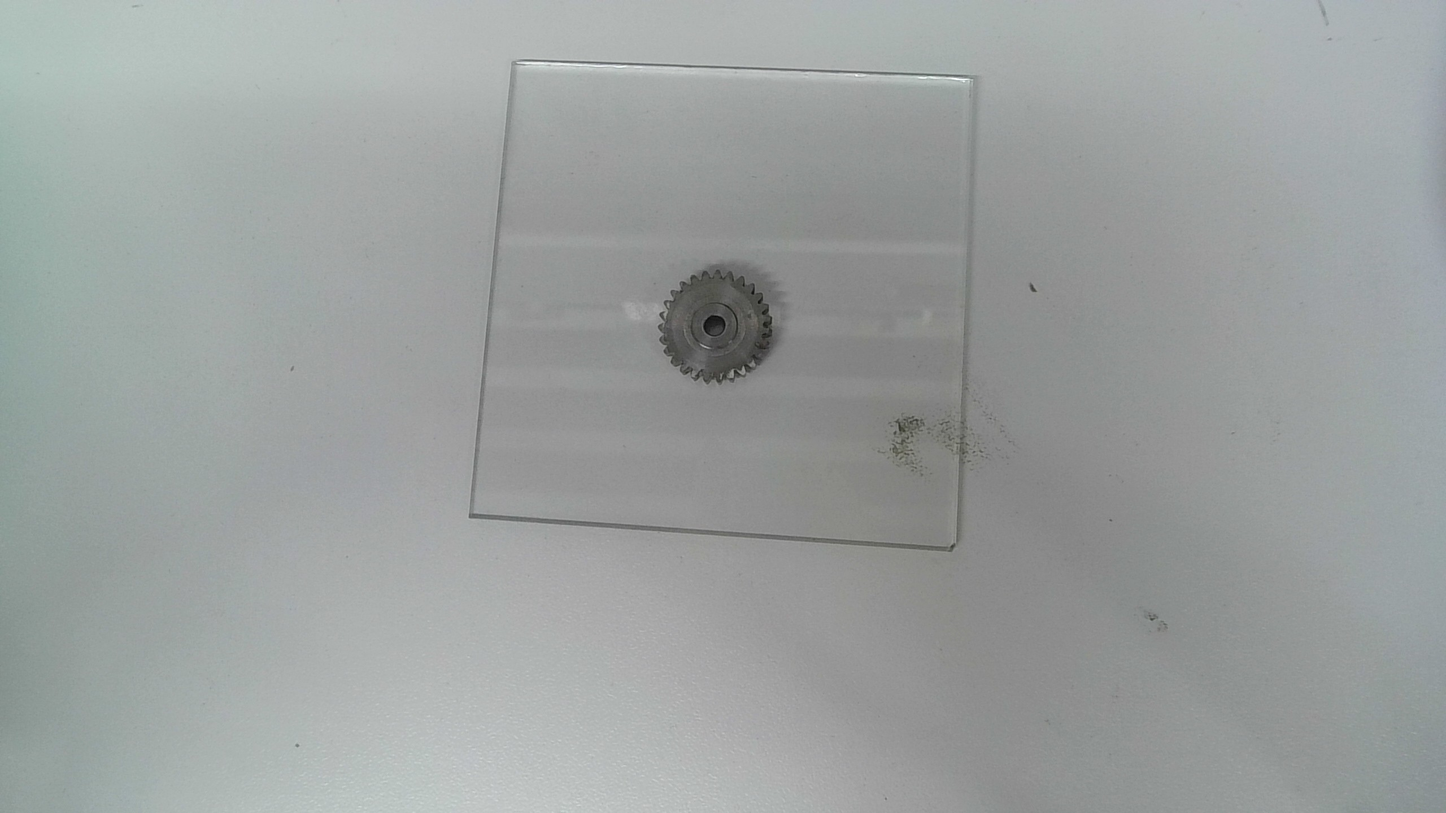gear: (656, 265, 776, 386)
